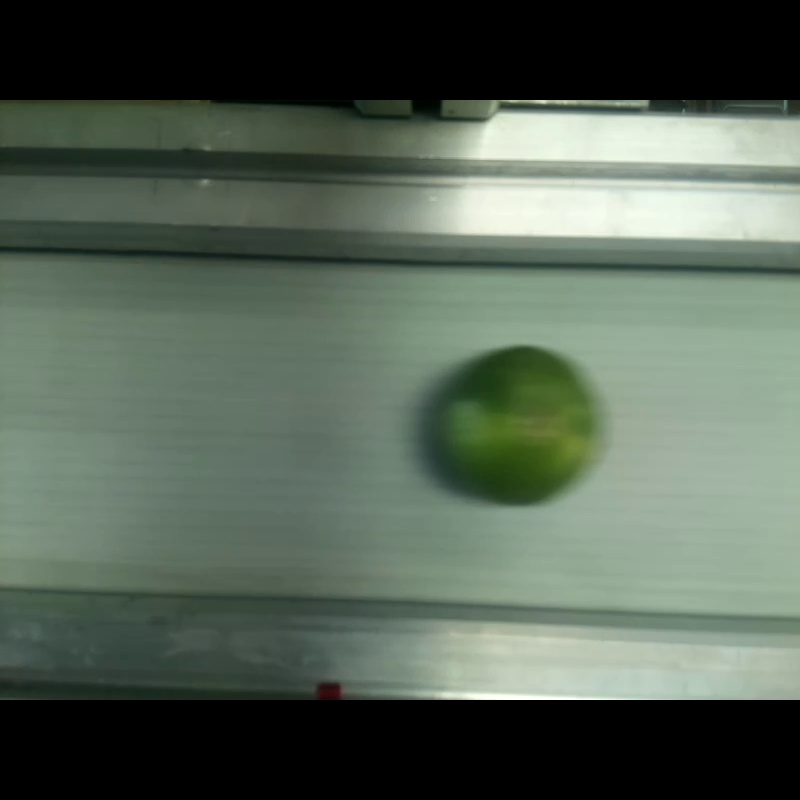lime: (431, 347, 596, 507)
